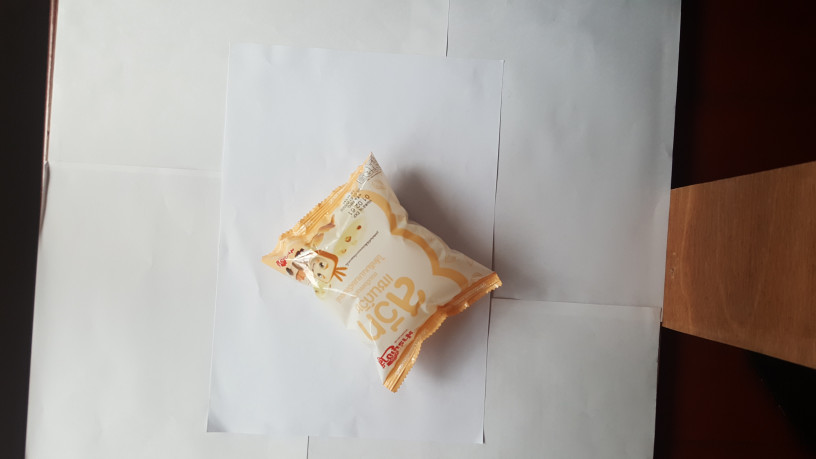farmhouse-sweetsandwich-almond: (258, 152, 508, 397)
